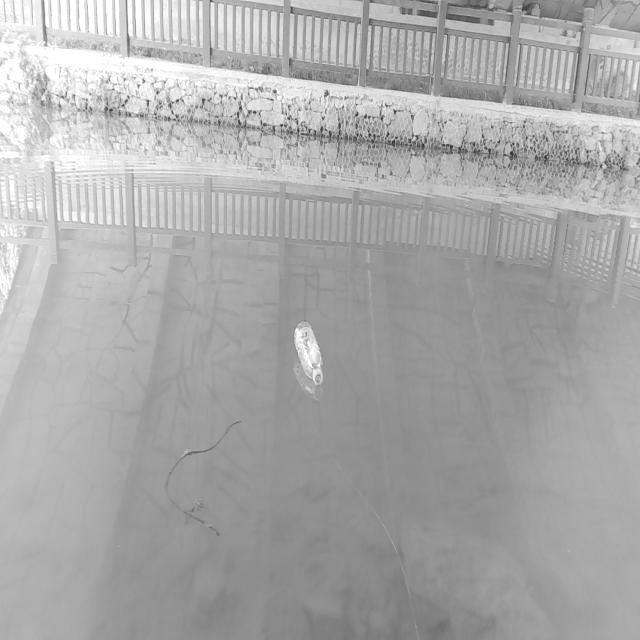bottle: (282, 298, 331, 412)
